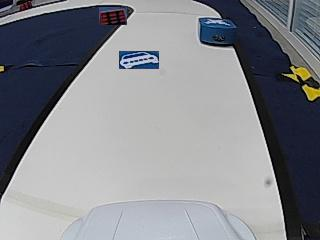prop: (199, 17, 237, 47)
